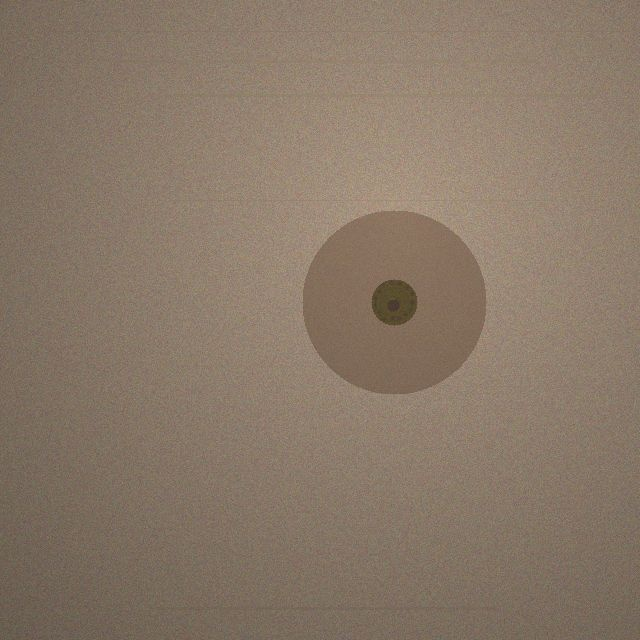cold_weld: (302, 210, 486, 394)
